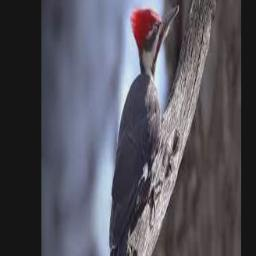Woodpecker: (107, 4, 179, 256)
